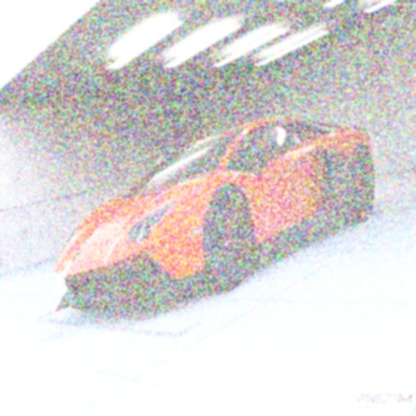Vehicle: (54, 117, 376, 317)
